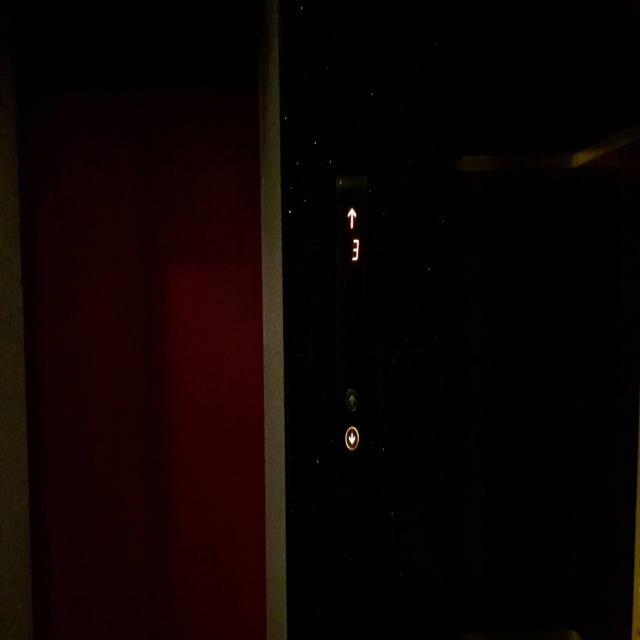down: (344, 424, 359, 452)
up: (344, 386, 358, 413)
